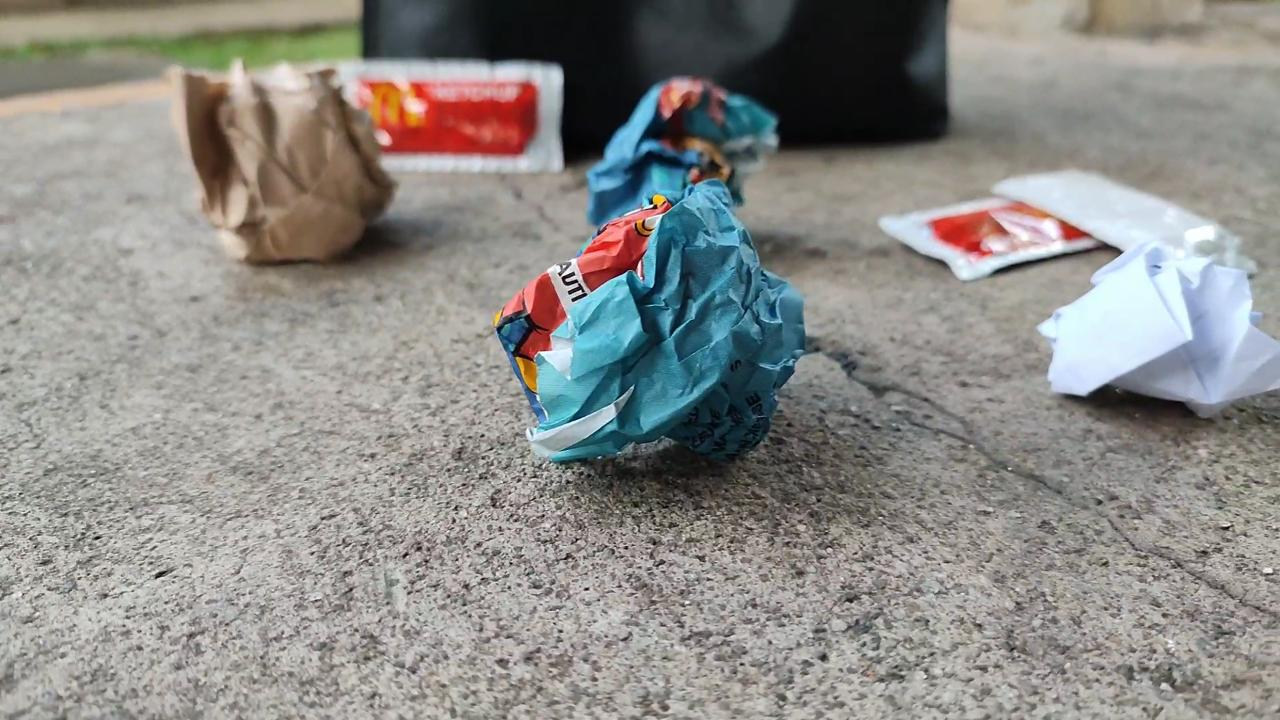Paper: (466, 169, 808, 492), (137, 54, 396, 276), (1031, 239, 1280, 435), (589, 54, 789, 254)
